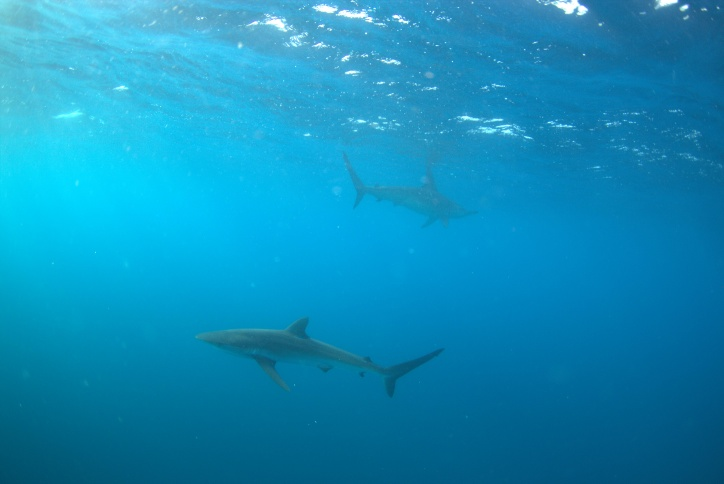Sedoso: (183, 307, 457, 411)
